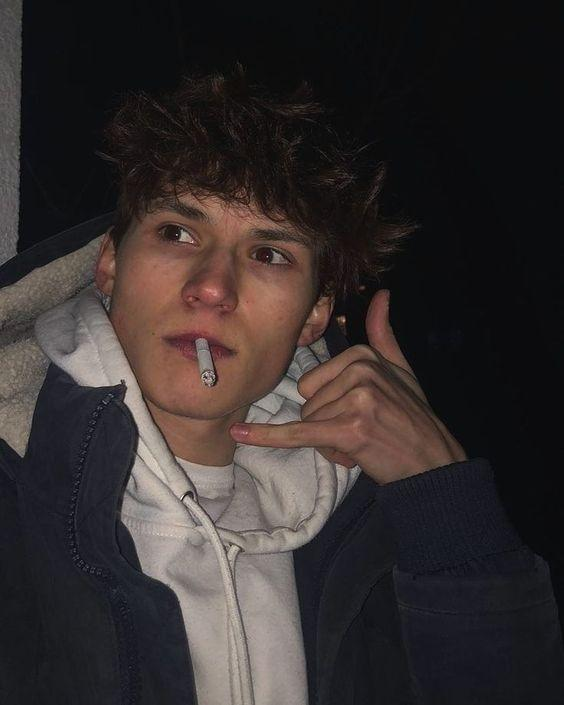cigarette: (196, 337, 216, 386)
